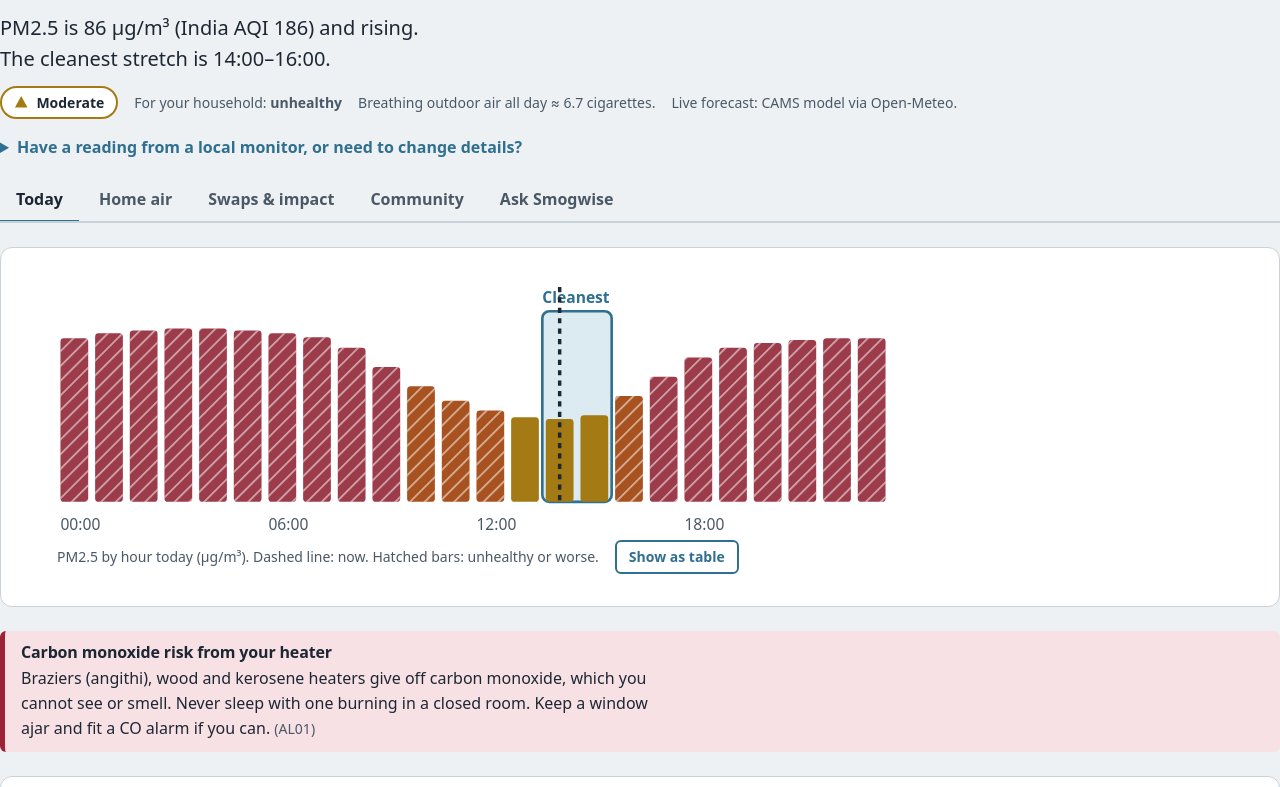
Scenario: PlanView — Community and Ask (lazy) › uses only ticked swaps once the household picks some
Click the tab "Swaps & impact" at (271, 201), box [192,179,350,223]
(page scrolled)
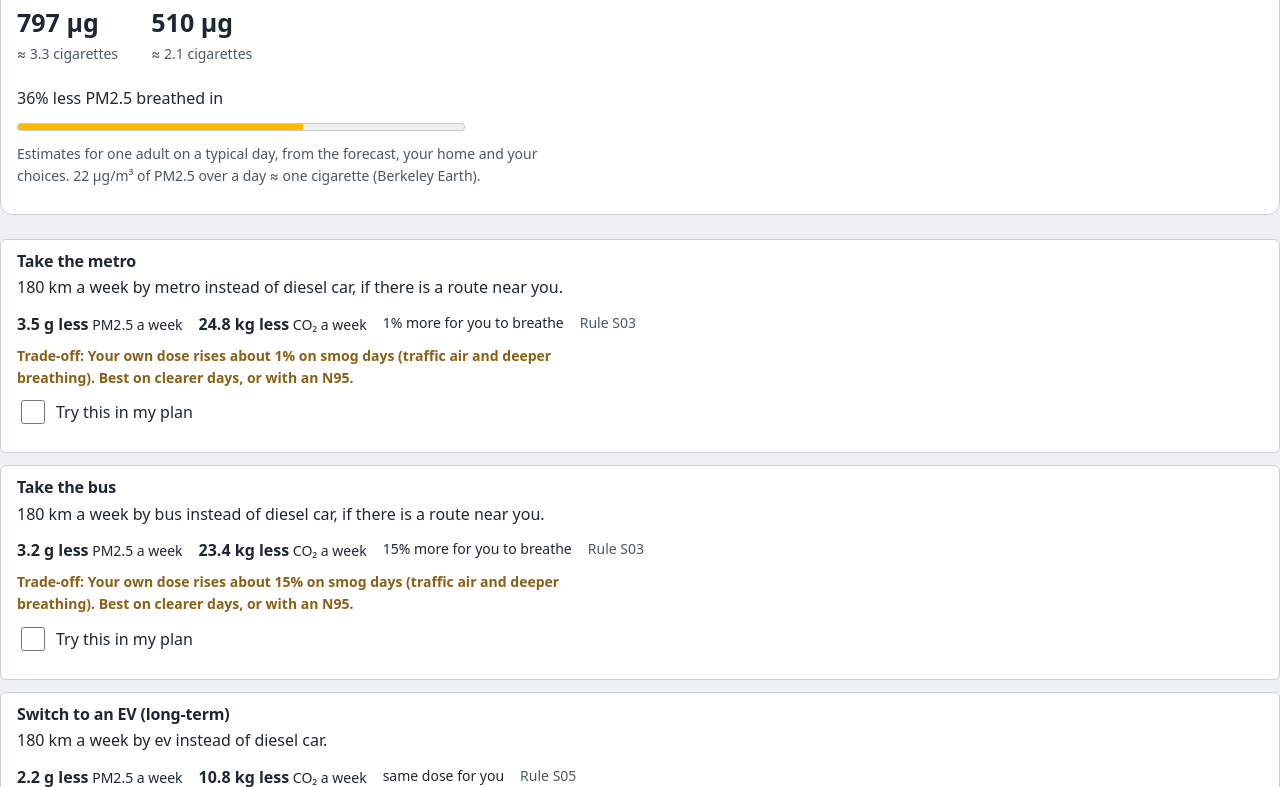
Click the checkbox labelled "Try this in my plan" below "Take the metro" at (33, 412), box [21,400,45,424]
(page scrolled)
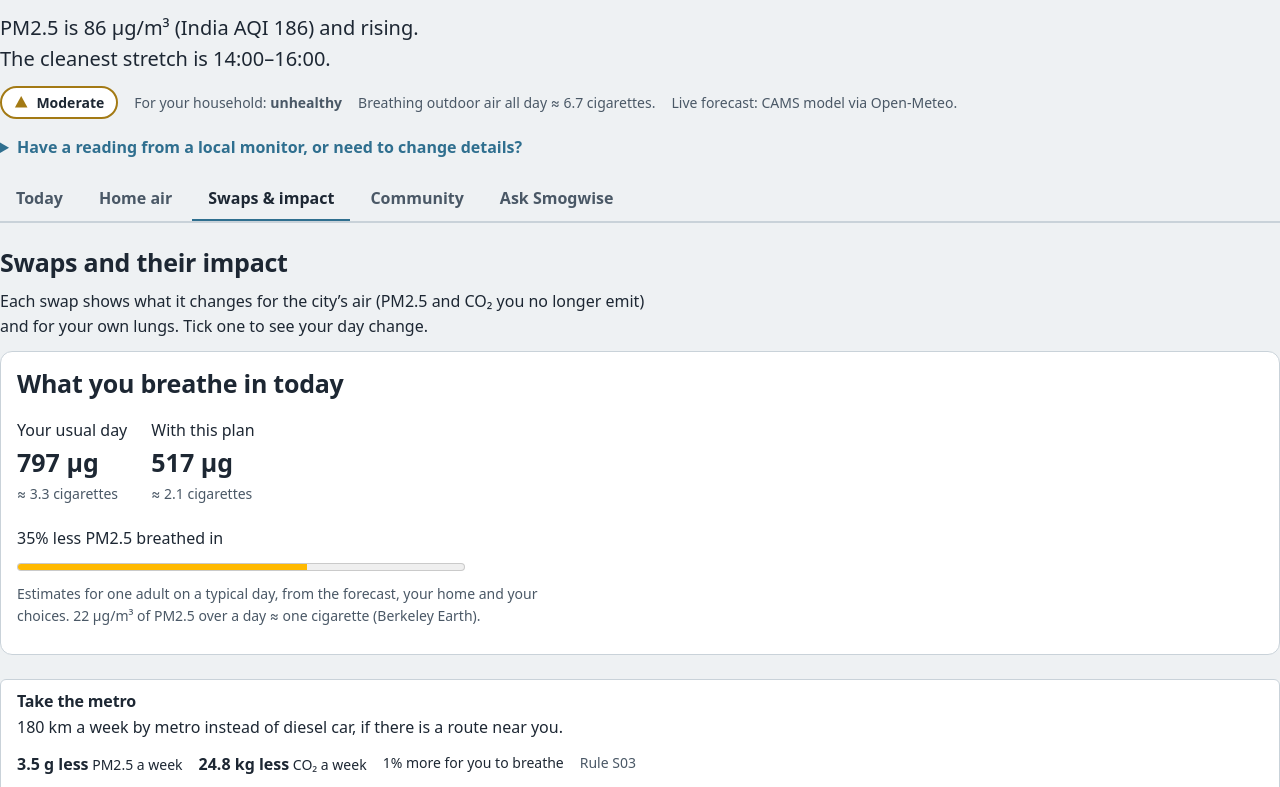
Click the tab "Community" at (417, 200), box [354,178,480,222]
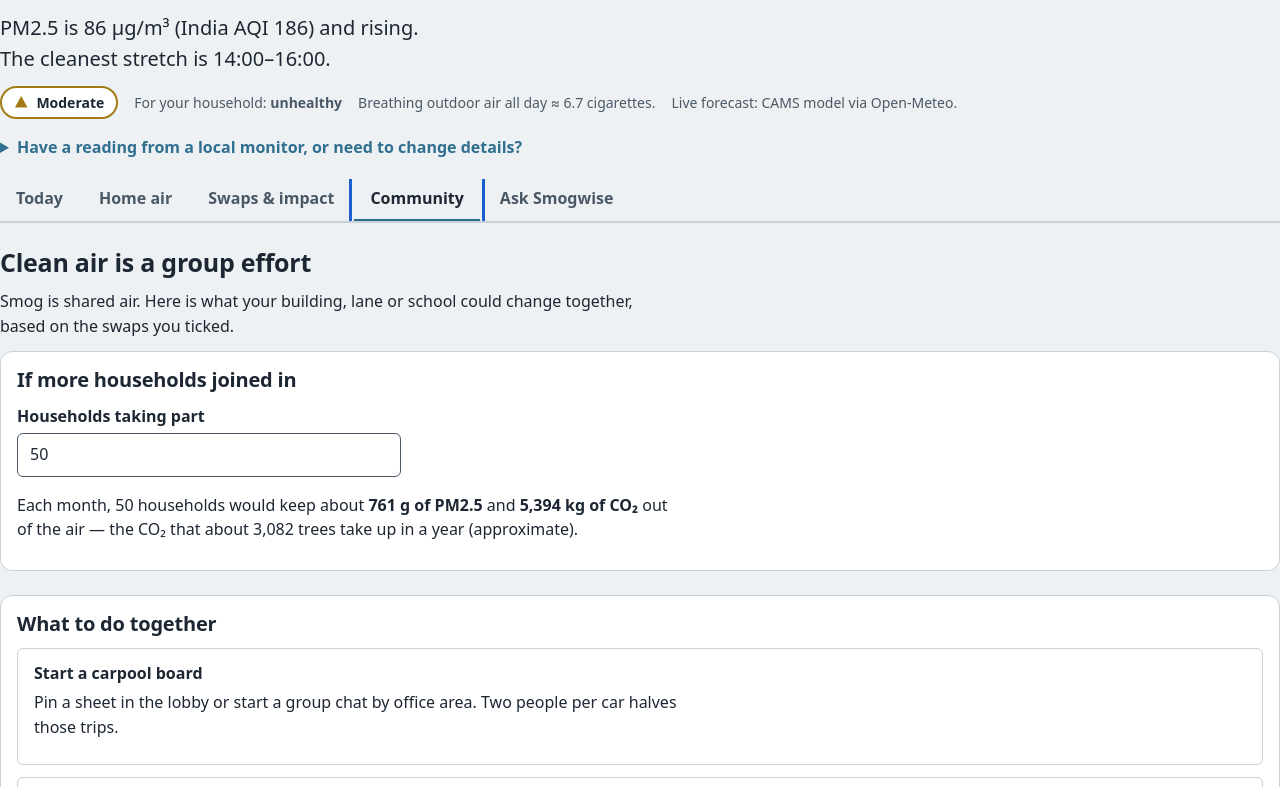
expect the text "the swaps you ticked" is shown: met, box [73,315,230,337]
